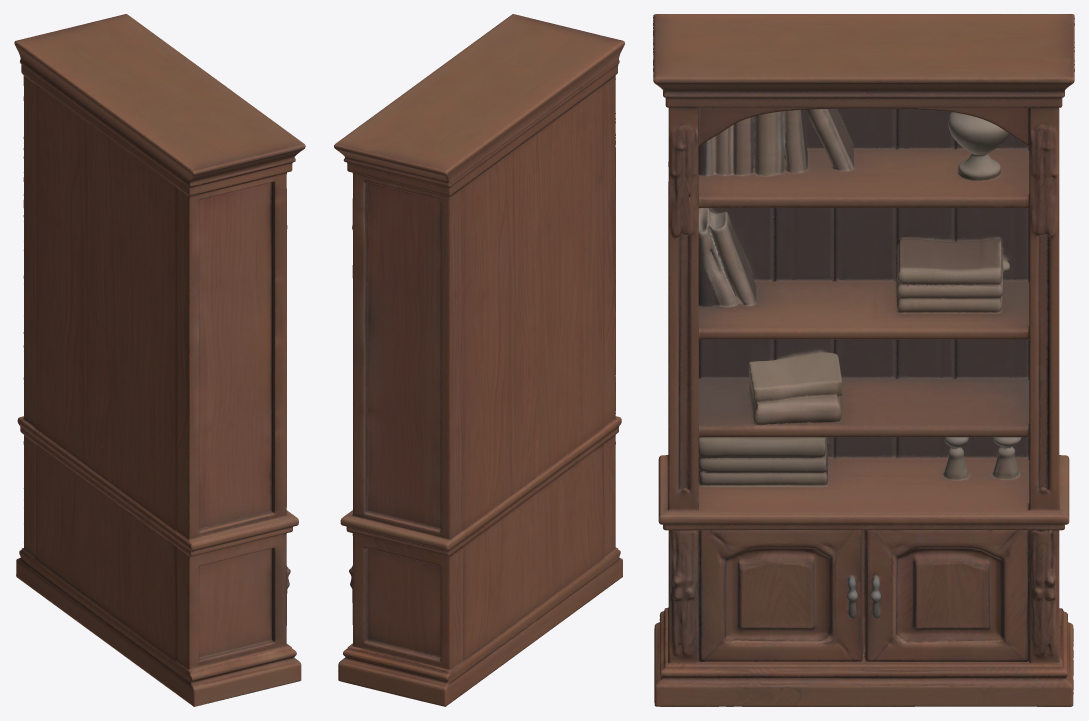
Rendered from detailed_realistic_model_antiquebookshelf_23.glb.
3 views of the same model, side by side, from view 1: azimuth 30°, elevation 25°; view 2: azimuth 150°, elevation 25°; view 3: azimuth 270°, elevation 25° (orthographic). The views are drawn at different scales.
Parts seen in each view (by area): view 1: tripo_node_854b1fc2-b4fc-42b5-82bc-04ab2ff12506; view 2: tripo_node_854b1fc2-b4fc-42b5-82bc-04ab2ff12506; view 3: tripo_node_854b1fc2-b4fc-42b5-82bc-04ab2ff12506.
Boxes of the visible parts, <box> form: tripo_node_854b1fc2-b4fc-42b5-82bc-04ab2ff12506: <box>14,14,305,706</box>; tripo_node_854b1fc2-b4fc-42b5-82bc-04ab2ff12506: <box>334,14,624,706</box>; tripo_node_854b1fc2-b4fc-42b5-82bc-04ab2ff12506: <box>653,14,1074,706</box>.
Bounding box in the file's own units: 0.2207 × 1 × 0.6053.
1 material, 1 textured.
